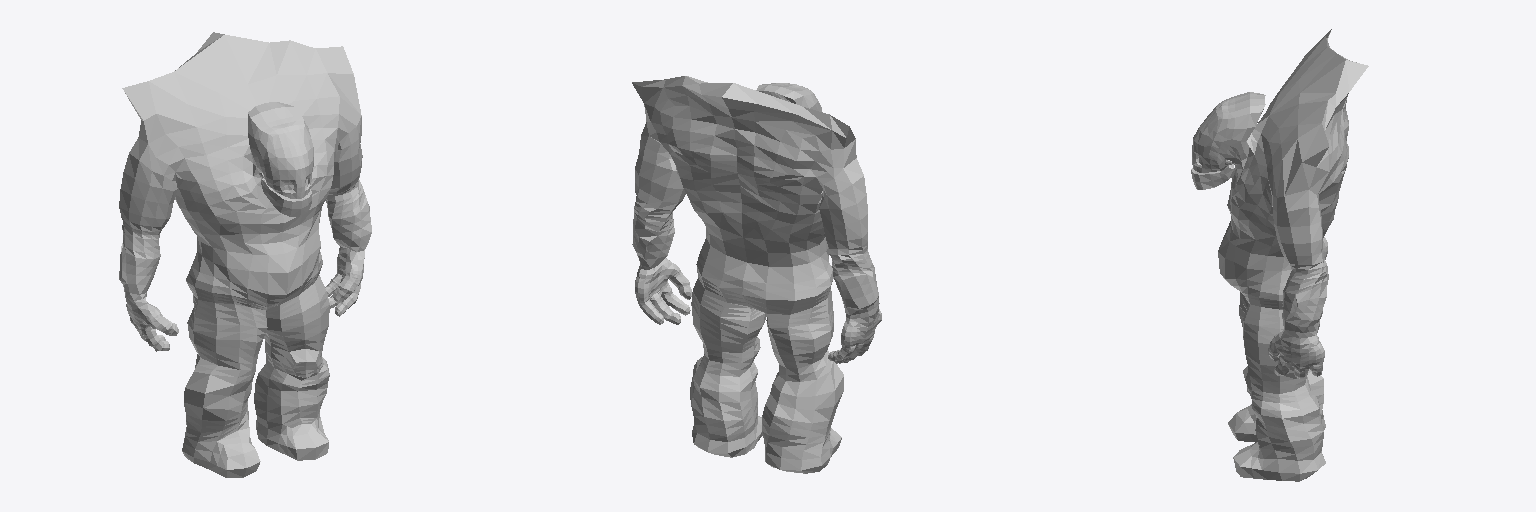
Rendered from golem_000017.obj.
3 views of the same model, side by side, from view 1: azimuth 30°, elevation 25°; view 2: azimuth 150°, elevation 25°; view 3: azimuth 270°, elevation 25° (orthographic).
Parts seen in each view (by area): view 1: golem; view 2: golem; view 3: golem.
Boxes of the visible parts, <box> form: golem: <box>119,32,371,477</box>; golem: <box>632,76,881,473</box>; golem: <box>1191,29,1368,481</box>.
Bounding box in the file's own units: 7.35 × 11.29 × 4.63.